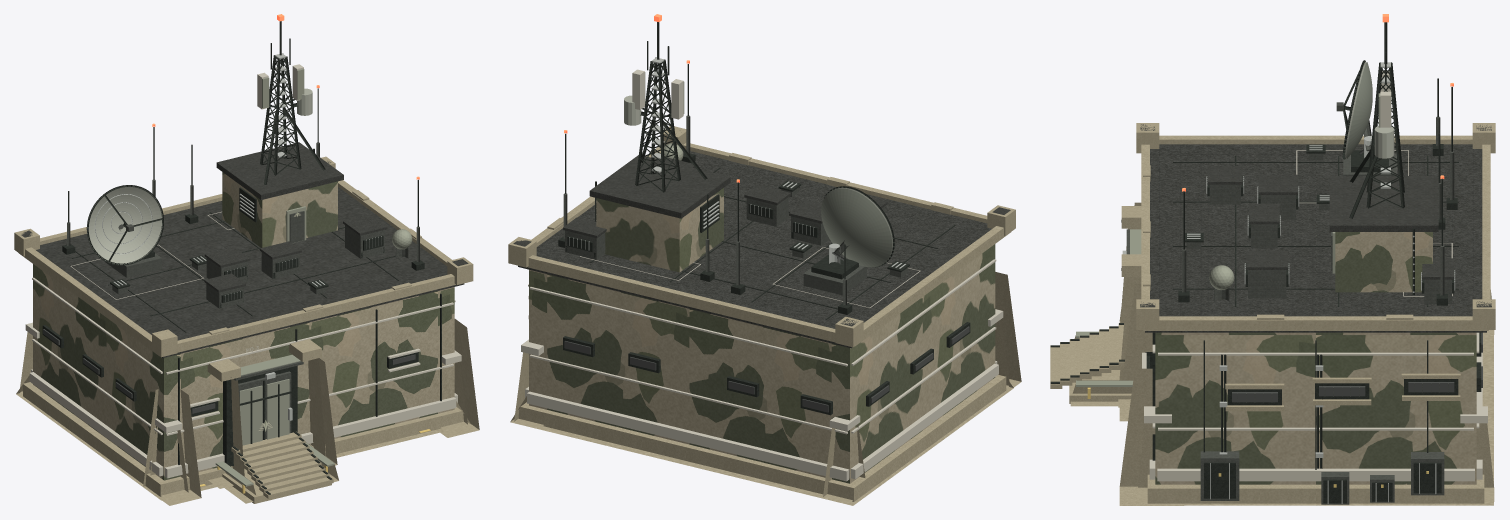
The model's file is sandforge_funkzentrale_hq3_game_ready.glb.
3 views of the same model, side by side, from view 1: azimuth 30°, elevation 25°; view 2: azimuth 150°, elevation 25°; view 3: azimuth 270°, elevation 25° (orthographic). The views are drawn at different scales.
Visible parts, largest first — view 1: Static_Desert_Camouflage_Weathered, Static_Sand_Concrete_PBR, Static_Dark_Weathered_Roof, Static_Warm_Reinforced_Beige, Static_Graphite_Metal, Static_Olive_Painted_Steel, Independent_Satellite_Dish_Bowl_dish, Static_Olive_Camouflage_Secondary, Independent_Communications_Lattice_Mast_dark, Static_Exposed_Steel, Independent_Dish_Ring_and_Radials_dark, Static_Black_Arrow_Slits; view 2: Static_Desert_Camouflage_Weathered, Static_Dark_Weathered_Roof, Static_Sand_Concrete_PBR, Static_Warm_Reinforced_Beige, Static_Graphite_Metal, Static_Olive_Painted_Steel, Independent_Satellite_Dish_Bowl_dish_inner, Independent_Communications_Lattice_Mast_dark, Static_Black_Arrow_Slits, Independent_Mast_Sector_Panels_sandtrim, Static_Exposed_Steel; view 3: Static_Dark_Weathered_Roof, Static_Desert_Camouflage_Weathered, Static_Sand_Concrete_PBR, Static_Graphite_Metal, Static_Olive_Painted_Steel, Static_Warm_Reinforced_Beige, Independent_Communications_Lattice_Mast_dark, Static_Black_Arrow_Slits, Static_Olive_Camouflage_Secondary, Static_Exposed_Steel, Independent_Satellite_Dish_Bowl_dish_inner, Independent_Mast_Round_Transmitter_dish (+1 smaller).
Boxes of the visible parts, x1,y1,x2,y2 form: Static_Desert_Camouflage_Weathered: (33, 172, 454, 480); Static_Sand_Concrete_PBR: (14, 156, 479, 505); Static_Dark_Weathered_Roof: (21, 142, 468, 357); Static_Warm_Reinforced_Beige: (25, 211, 461, 478); Static_Graphite_Metal: (42, 88, 441, 494); Static_Olive_Painted_Steel: (67, 142, 419, 439); Independent_Satellite_Dish_Bowl_dish: (87, 185, 162, 264); Static_Olive_Camouflage_Secondary: (215, 206, 412, 486); Independent_Communications_Lattice_Mast_dark: (260, 53, 301, 175); Static_Exposed_Steel: (113, 53, 381, 420); Independent_Dish_Ring_and_Radials_dark: (86, 185, 163, 265); Static_Black_Arrow_Slits: (43, 329, 415, 413); Static_Desert_Camouflage_Weathered: (529, 188, 995, 483); Static_Dark_Weathered_Roof: (513, 151, 1010, 348); Static_Sand_Concrete_PBR: (508, 126, 1021, 505); Static_Warm_Reinforced_Beige: (521, 247, 1003, 481); Static_Graphite_Metal: (558, 64, 970, 415); Static_Olive_Painted_Steel: (563, 115, 907, 305); Independent_Satellite_Dish_Bowl_dish_inner: (821, 188, 891, 267); Independent_Communications_Lattice_Mast_dark: (635, 57, 680, 192); Static_Black_Arrow_Slits: (564, 326, 969, 412); Independent_Mast_Sector_Panels_sandtrim: (632, 69, 683, 119); Static_Exposed_Steel: (569, 57, 906, 268); Static_Dark_Weathered_Roof: (1140, 124, 1491, 332); Static_Desert_Camouflage_Weathered: (1155, 232, 1476, 484); Static_Sand_Concrete_PBR: (1050, 123, 1495, 505); Static_Graphite_Metal: (1050, 78, 1481, 503); Static_Olive_Painted_Steel: (1126, 116, 1454, 504); Static_Warm_Reinforced_Beige: (1142, 150, 1487, 481); Independent_Communications_Lattice_Mast_dark: (1366, 62, 1404, 208); Static_Black_Arrow_Slits: (1232, 332, 1482, 402); Static_Olive_Camouflage_Secondary: (1076, 229, 1335, 386); Static_Exposed_Steel: (1122, 62, 1455, 503); Independent_Satellite_Dish_Bowl_dish_inner: (1346, 62, 1372, 158); Independent_Mast_Round_Transmitter_dish: (1374, 126, 1394, 158).
Size of the model in its own units: 12.8 by 13.81 by 12.76.
Materials: 15 (7 with a texture image).
